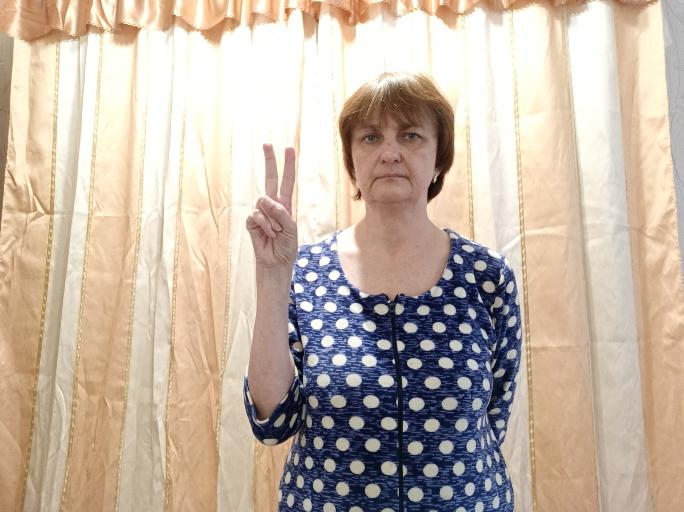peace: (244, 136, 302, 275)
